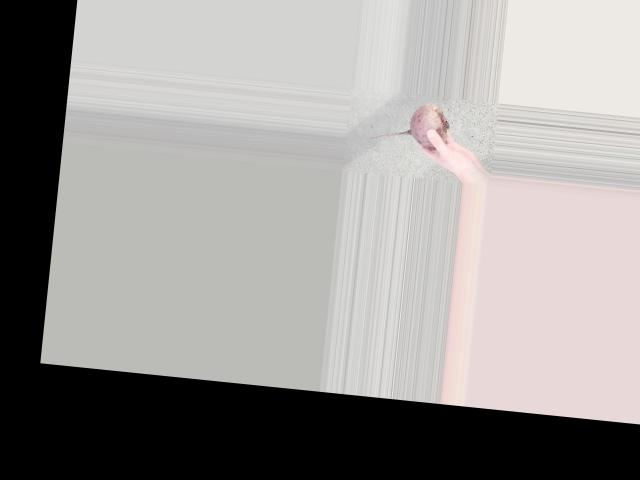beet: (369, 97, 451, 148)
